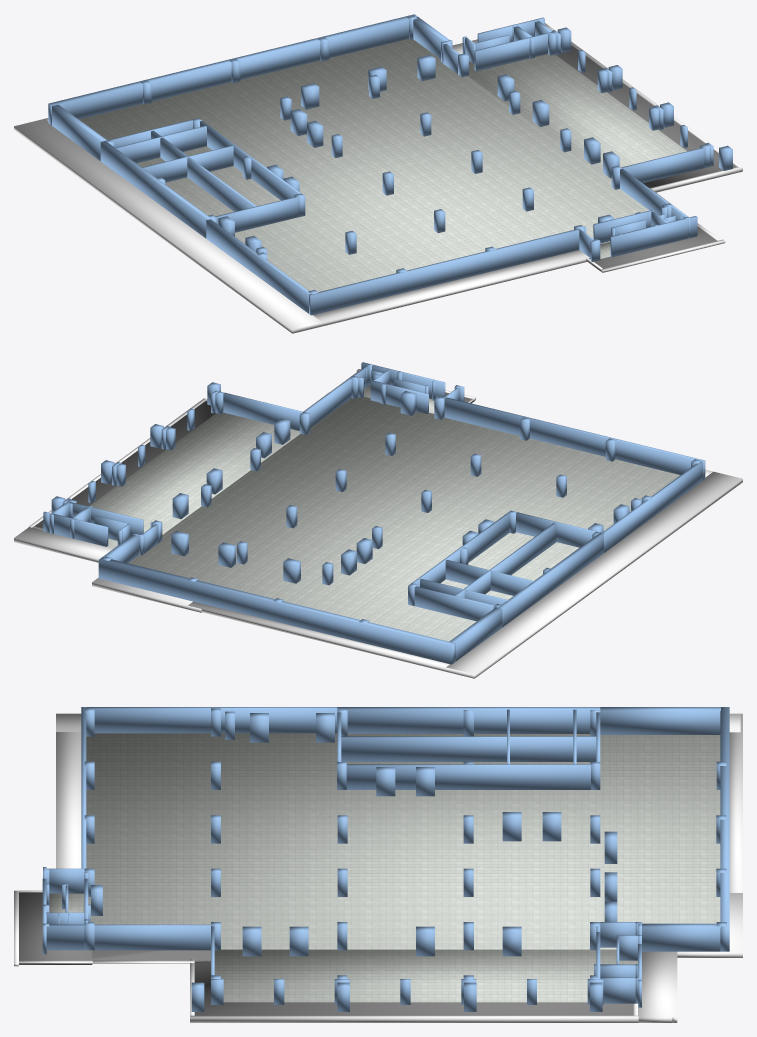
The model's file is wfa_1f_mini.gltf.
The picture shows the model from 3 angles, top to bottom: view 1: azimuth 30°, elevation 25°; view 2: azimuth 150°, elevation 25°; view 3: azimuth 270°, elevation 25°; orthographic projection. The views are drawn at different scales.
Visible parts, largest first — view 1: wfa_dimian_1f, wfa_waiguan_1f_11, wfa_qiang_1f, wfa_qiang_1f_5, wfa_waiguan_1f_2, wfa_qiang_1f_3, wfa_qiang_1f_4, wfa_waiguan_1f_1, wfa_qiang_1f_42, wfa_qiang_1f_58, wfa_qiang_1f_57, wfa_qiang_1f_37 (+13 smaller); view 2: wfa_dimian_1f, wfa_waiguan_1f_11, wfa_qiang_1f, wfa_qiang_1f_5, wfa_waiguan_1f_3, wfa_qiang_1f_3, wfa_qiang_1f_4, wfa_waiguan_1f_1, wfa_qiang_1f_58, wfa_qiang_1f_53, wfa_qiang_1f_37, wfa_qiang_1f_57 (+12 smaller); view 3: wfa_dimian_1f, wfa_waiguan_1f_1, wfa_qiang_1f_58, wfa_qiang_1f_3, wfa_qiang_1f_57, wfa_qiang_1f_4, wfa_qiang_1f_39, wfa_waiguan_1f_13, wfa_waiguan_1f_2, wfa_qiang_1f_2, wfa_waiguan_1f_17, wfa_qiang_1f (+19 smaller).
Part boxes in pixels (x1,y1,x2,y2): wfa_dimian_1f: [79, 39, 686, 292]; wfa_waiguan_1f_11: [14, 119, 322, 333]; wfa_qiang_1f: [48, 14, 417, 125]; wfa_qiang_1f_5: [309, 229, 579, 315]; wfa_waiguan_1f_2: [292, 250, 589, 333]; wfa_qiang_1f_3: [100, 141, 211, 238]; wfa_qiang_1f_4: [206, 219, 310, 313]; wfa_waiguan_1f_1: [556, 45, 736, 187]; wfa_qiang_1f_42: [610, 216, 697, 257]; wfa_qiang_1f_58: [151, 130, 256, 211]; wfa_qiang_1f_57: [200, 121, 300, 200]; wfa_qiang_1f_37: [621, 147, 704, 183]; wfa_dimian_1f: [90, 385, 680, 641]; wfa_waiguan_1f_11: [446, 471, 742, 677]; wfa_qiang_1f: [98, 557, 455, 664]; wfa_qiang_1f_5: [444, 397, 705, 480]; wfa_waiguan_1f_3: [188, 601, 475, 678]; wfa_qiang_1f_3: [498, 532, 604, 627]; wfa_qiang_1f_4: [602, 461, 703, 552]; wfa_waiguan_1f_1: [35, 401, 215, 528]; wfa_qiang_1f_58: [455, 522, 556, 597]; wfa_qiang_1f_53: [414, 586, 494, 621]; wfa_qiang_1f_37: [223, 392, 302, 430]; wfa_qiang_1f_57: [412, 513, 509, 586]; wfa_dimian_1f: [49, 733, 720, 1002]; wfa_waiguan_1f_1: [92, 950, 633, 1015]; wfa_qiang_1f_58: [341, 736, 596, 761]; wfa_qiang_1f_3: [337, 707, 600, 733]; wfa_qiang_1f_57: [346, 764, 590, 789]; wfa_qiang_1f_4: [86, 707, 337, 733]; wfa_qiang_1f_39: [42, 924, 210, 950]; wfa_waiguan_1f_13: [190, 1015, 638, 1022]; wfa_waiguan_1f_2: [56, 732, 81, 868]; wfa_qiang_1f_2: [600, 707, 720, 734]; wfa_waiguan_1f_17: [638, 951, 676, 1022]; wfa_qiang_1f: [720, 707, 729, 951].
Bounding box in the file's own units: 148 × 6.76 × 150.
Materials: 5 (1 with a texture image).
